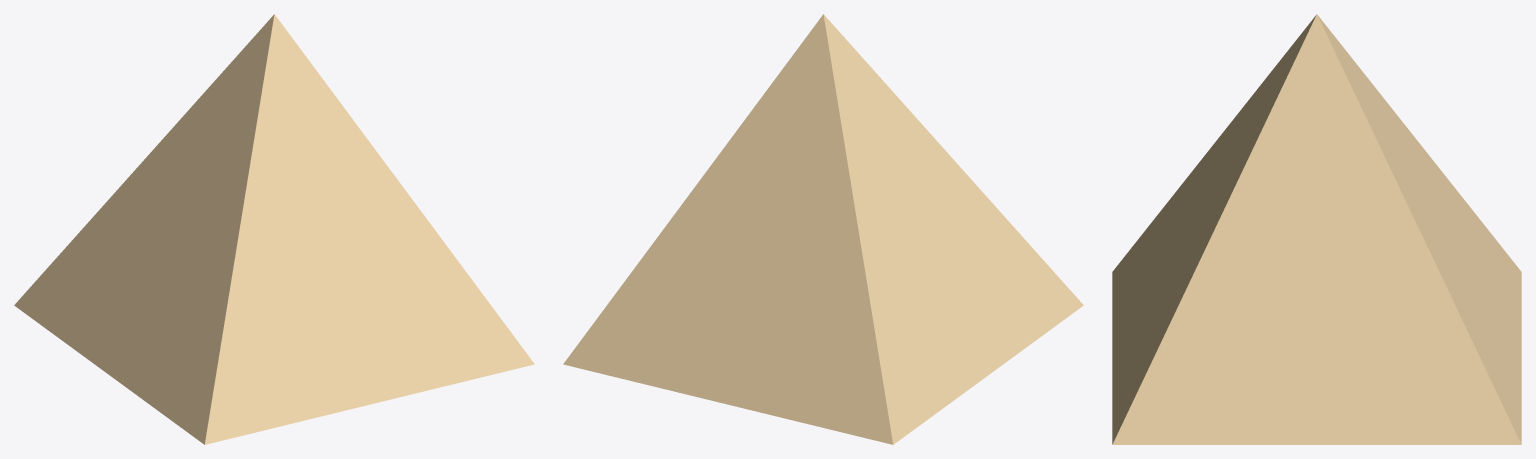
File: local-demo.gltf
3 views of the same model, side by side, from view 1: azimuth 30°, elevation 25°; view 2: azimuth 150°, elevation 25°; view 3: azimuth 270°, elevation 25° (orthographic). The views are drawn at different scales.
Parts seen in each view (by area): view 1: LocalDemoPyramid; view 2: LocalDemoPyramid; view 3: LocalDemoPyramid.
Boxes of the visible parts, x1=… form: LocalDemoPyramid: x1=14, y1=14, x2=534, y2=444; LocalDemoPyramid: x1=563, y1=14, x2=1083, y2=444; LocalDemoPyramid: x1=1112, y1=14, x2=1521, y2=444.
Size of the model in its own units: 0.28 by 0.26 by 0.28.
